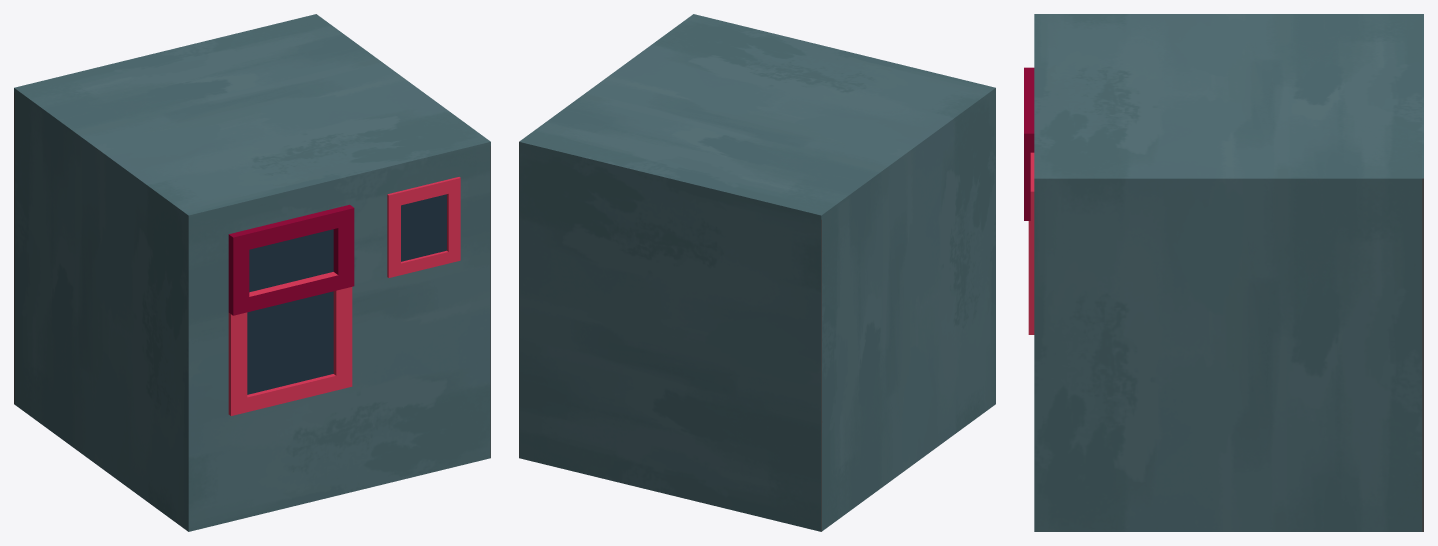
File: m_block_two_windows.FBX
3 views of the same model, side by side, from view 1: azimuth 30°, elevation 25°; view 2: azimuth 150°, elevation 25°; view 3: azimuth 270°, elevation 25° (orthographic). The views are drawn at different scales.
Visible parts, largest first — view 1: block_base001; view 2: block_base001; view 3: block_base001.
Part boxes in pixels (x1=…): block_base001: x1=14, y1=14, x2=490, y2=531; block_base001: x1=519, y1=14, x2=995, y2=531; block_base001: x1=1024, y1=14, x2=1423, y2=531.
Size of the model in its own units: 100 by 100 by 103.
